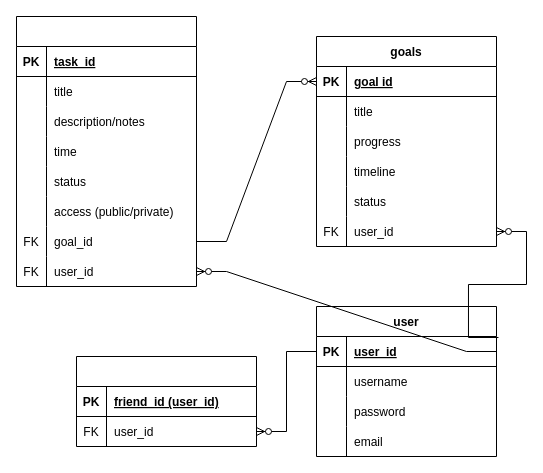
This 543x473 diagram has some shape labels left out. The box of each missing label's shape, as (x1, y1, x2, y2) in pixels:
friends: (76, 356, 256, 446)
tasks: (16, 16, 196, 286)
